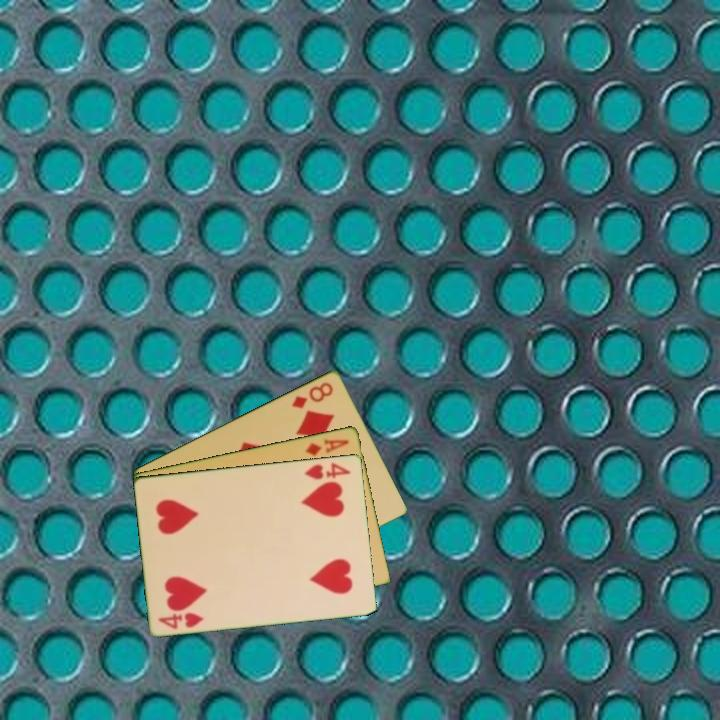4h: (301, 458, 354, 482), (155, 609, 206, 631)
8d: (288, 378, 336, 411)
Ad: (302, 435, 352, 459)
